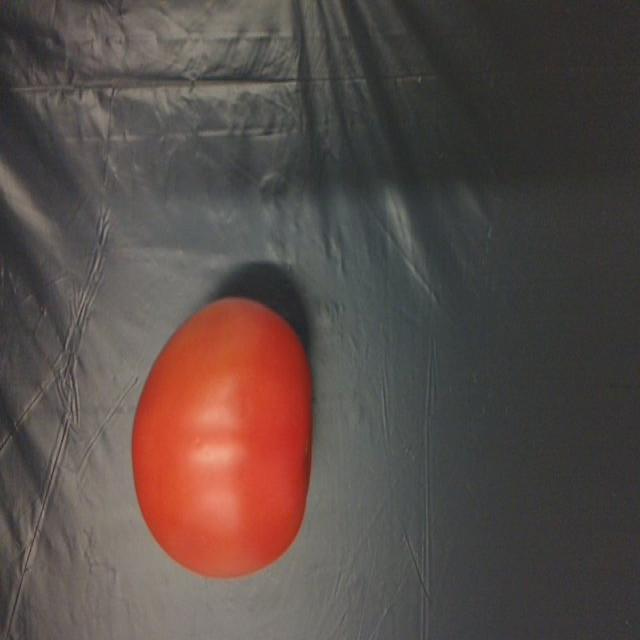kirmizi: (136, 295, 316, 583)
